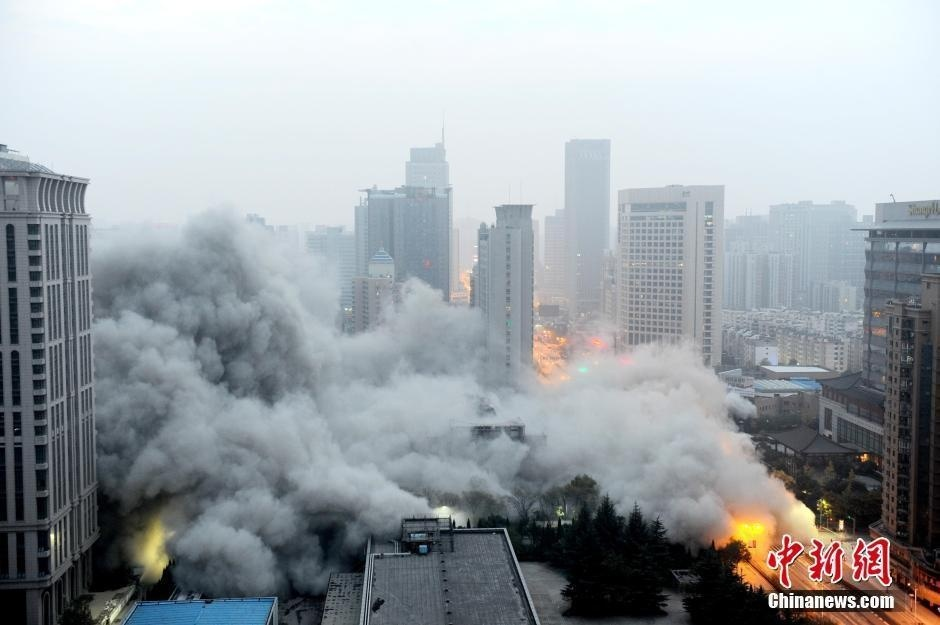fire: (725, 518, 769, 549)
